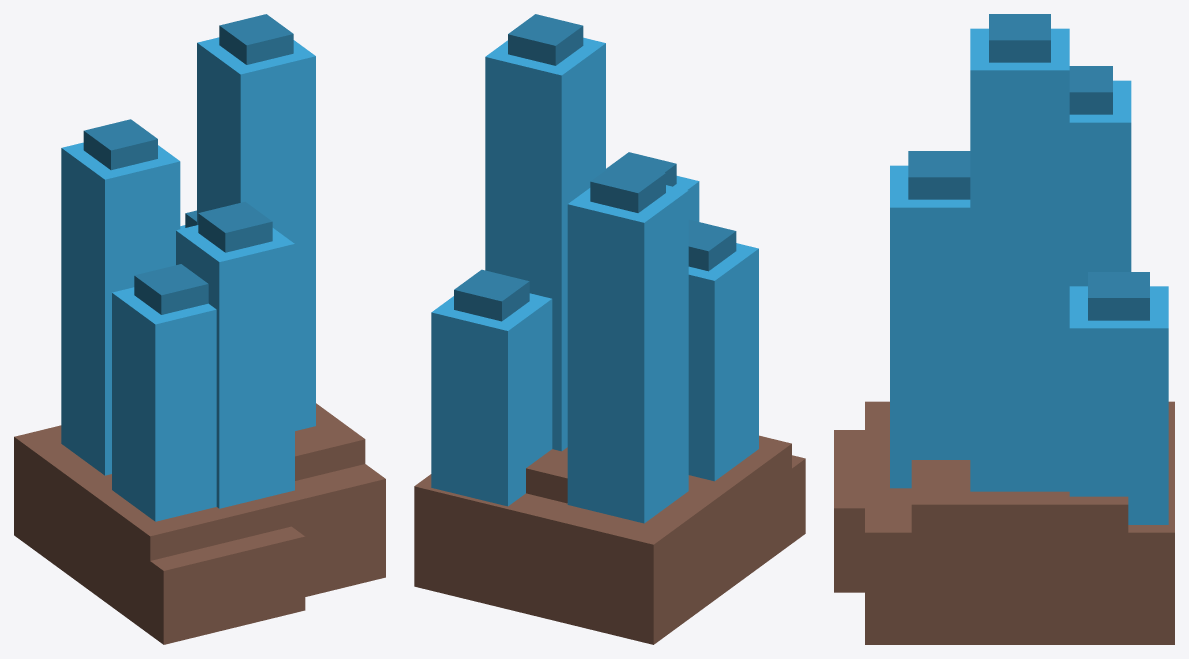
File: TubeCoral_Cyan.glb
The picture shows the model from 3 angles, left to right: view 1: azimuth 30°, elevation 25°; view 2: azimuth 150°, elevation 25°; view 3: azimuth 270°, elevation 25°; orthographic projection. The views are drawn at different scales.
Parts seen in each view (by area): view 1: TubeCoral_Cyan; view 2: TubeCoral_Cyan; view 3: TubeCoral_Cyan.
Part boxes in pixels (left/top/right/bottom): TubeCoral_Cyan: left=14, top=14, right=385, bottom=644; TubeCoral_Cyan: left=414, top=14, right=805, bottom=644; TubeCoral_Cyan: left=834, top=14, right=1174, bottom=644.
Bounding box in the file's own units: 5 × 10.4 × 5.5.
Materials: 1 (1 with a texture image).
